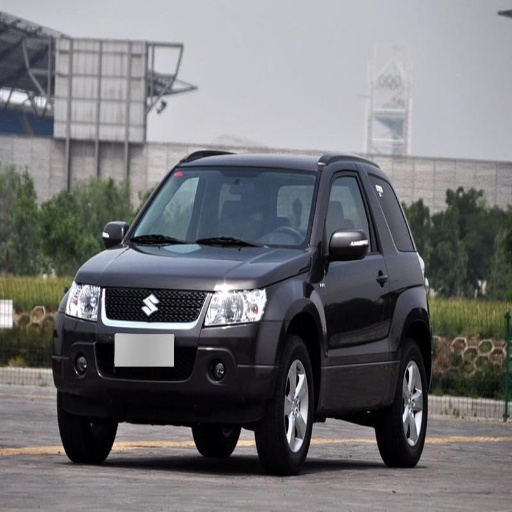front_bumper: (58, 286, 282, 424)
front_glass: (123, 168, 319, 249)
front_left_door: (322, 163, 384, 395)
